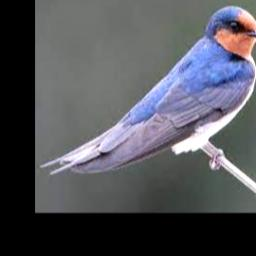Swallow: (40, 6, 256, 175)
